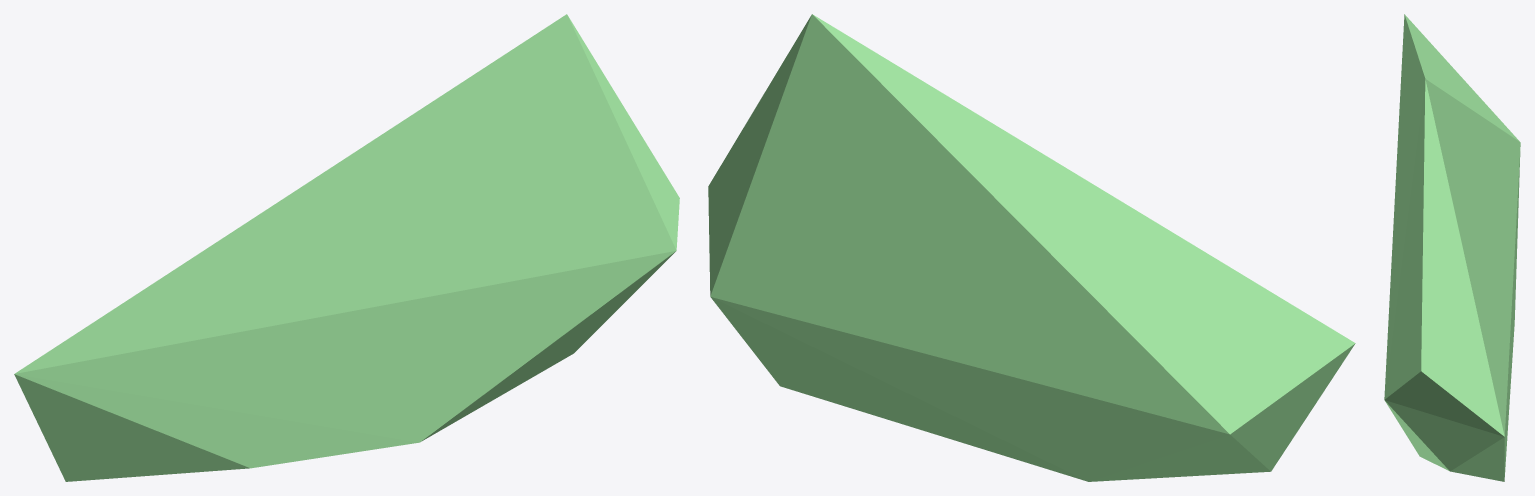
Rendered from linkhou_LR4_R560_link2_respondable_coll_8.dae.
3 renders of one model, left to right at view 1: azimuth 30°, elevation 25°; view 2: azimuth 150°, elevation 25°; view 3: azimuth 270°, elevation 25°, orthographic. The views are drawn at different scales.
Visible parts, largest first — view 1: Node_00000209DB3AD520; view 2: Node_00000209DB3AD520; view 3: Node_00000209DB3AD520.
Part boxes in pixels (x1,y1,x2,y2): Node_00000209DB3AD520: [14, 14, 679, 481]; Node_00000209DB3AD520: [708, 14, 1355, 481]; Node_00000209DB3AD520: [1384, 14, 1520, 481].
Size of the model in its own units: 0.1375 by 0.0745 by 0.0217.
